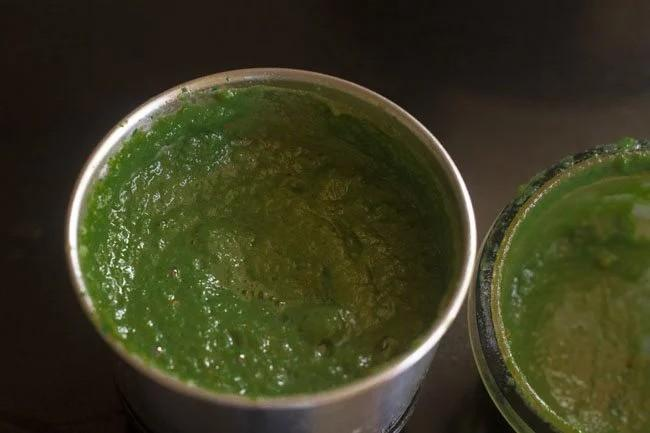GreenChutney: (80, 83, 448, 394), (501, 176, 650, 433)
